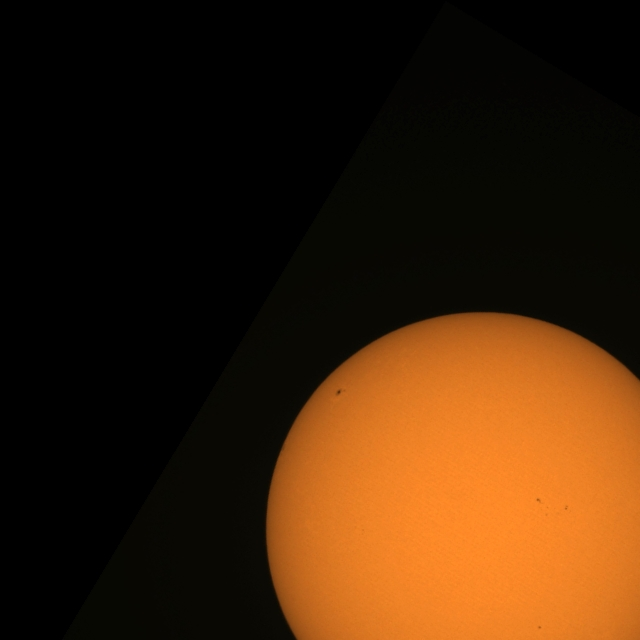sunspot: (536, 497, 550, 516), (334, 387, 346, 397), (536, 497, 543, 505), (564, 504, 570, 512), (537, 625, 542, 630)
